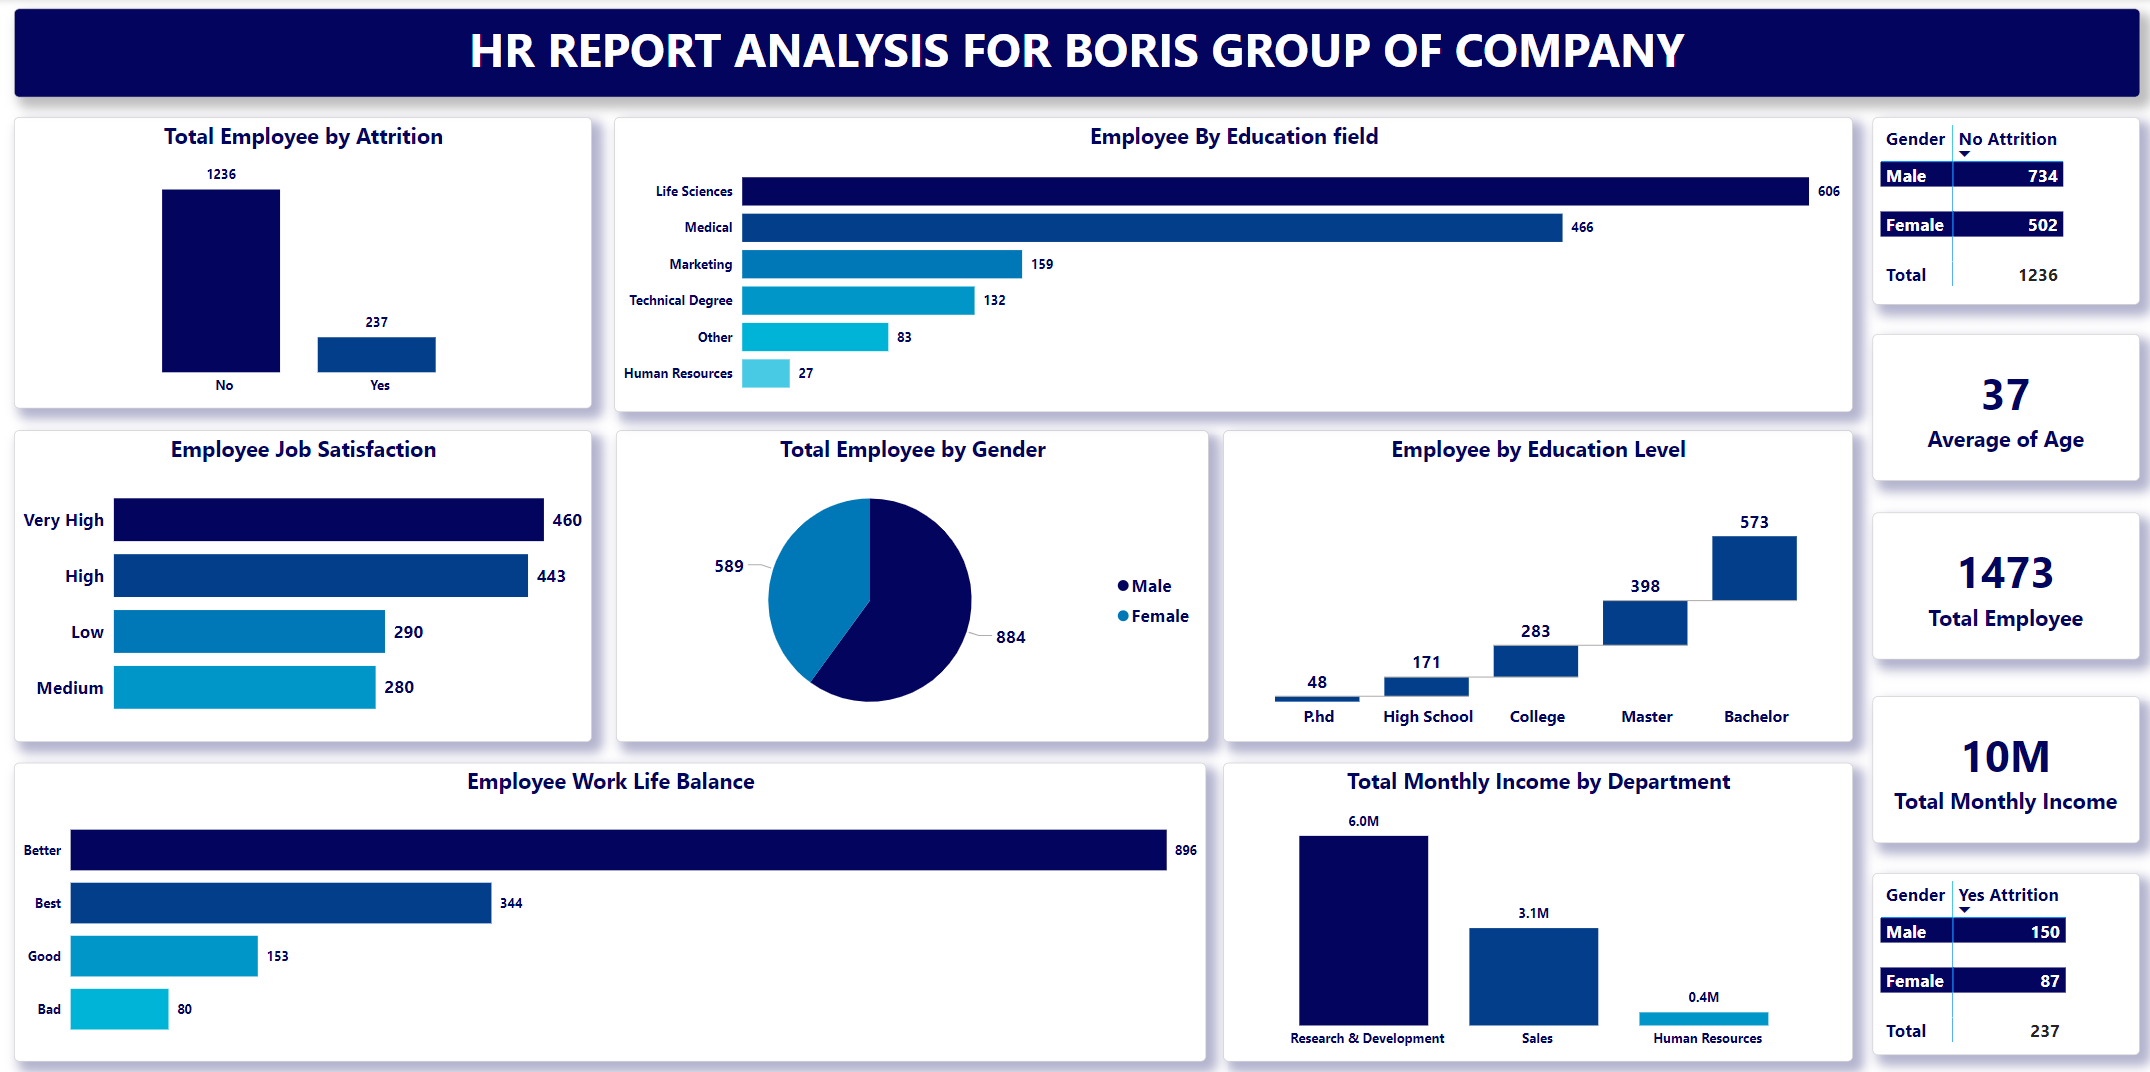

What the dashboard file says about the page in this screenshot:
{"tool":"powerbi","page":{"name":"Page 1","canvas":[2020,998],"ordinal":0},"visuals":[{"type":"pieChart","title":"Total Employee by Gender","fields":{"Category":["HR_Analytics.Gender"],"Y":["Sum(HR_Analytics.EmployeeCount)"]},"box":[589.6,400.5,548.3,288.8],"z":0},{"type":"clusteredBarChart","title":"Employee Job Satisfaction","fields":{"Category":["HR_Analytics.JobSatisfaction"],"Y":["Sum(HR_Analytics.EmployeeCount)"]},"box":[32.7,400.5,534.6,288.8],"z":1000},{"type":"waterfallChart","title":"Employee by Education Level","fields":{"Category":["HR_Analytics.Education Level"],"Y":["Sum(HR_Analytics.EmployeeCount)"]},"box":[1151.7,400.5,582.7,288.8],"z":2000},{"type":"clusteredBarChart","title":"Employee By Education field","fields":{"Category":["HR_Analytics.EducationField"],"Y":["Sum(HR_Analytics.EmployeeCount)"]},"box":[587.9,110,1146.5,273.3],"z":3000},{"type":"clusteredBarChart","title":"Employee  Work Life Balance","fields":{"Category":["HR_Analytics.WorkLifeBalance"],"Y":["Sum(HR_Analytics.EmployeeCount)"]},"box":[32.7,708.2,1103.6,276.7],"z":4000},{"type":"columnChart","title":"Total Employee by Attrition","fields":{"Category":["HR_Analytics.Attrition"],"Y":["Sum(HR_Analytics.EmployeeCount)"]},"box":[32.7,110,534.6,269.9],"z":5000},{"type":"columnChart","title":"Total Monthly Income by Department","fields":{"Category":["HR_Analytics.Department"],"Y":["Sum(HR_Analytics.MonthlyIncome)"]},"box":[1151.7,708.2,582.7,276.7],"z":6000},{"type":"textbox","box":[32.7,10.3,1968.2,82.5],"z":7000},{"type":"card","fields":{"Values":["Avg(HR_Analytics.Age)"]},"box":[1753.3,311.1,247.5,135.8],"z":8000},{"type":"card","fields":{"Values":["Sum(HR_Analytics.EmployeeCount)"]},"box":[1753.3,476.1,247.5,135.8],"z":9000},{"type":"card","fields":{"Values":["Sum(HR_Analytics.MonthlyIncome)"]},"box":[1753.3,646.3,247.5,135.8],"z":10000},{"type":"pivotTable","fields":{"Rows":["HR_Analytics.Gender"],"Values":["Count(HR_Analytics)"]},"box":[1753.3,809.6,247.5,168.5],"z":11000},{"type":"pivotTable","fields":{"Rows":["HR_Analytics.Gender"],"Values":["Count(HR_Analytics)"]},"box":[1753.3,110,247.5,173.6],"z":12000}]}

Visuals, with their boxes in screenshot pixels (x1, y1, x2, y2), scaled from the page's 2020x998 canvas onto the 2150x1072 screenshot:
"Total Employee by Gender" pieChart: left=628, top=430, right=1211, bottom=740
"Employee Job Satisfaction" clusteredBarChart: left=35, top=430, right=604, bottom=740
"Employee by Education Level" waterfallChart: left=1226, top=430, right=1846, bottom=740
"Employee By Education field" clusteredBarChart: left=626, top=118, right=1846, bottom=412
"Employee  Work Life Balance" clusteredBarChart: left=35, top=761, right=1209, bottom=1058
"Total Employee by Attrition" columnChart: left=35, top=118, right=604, bottom=408
"Total Monthly Income by Department" columnChart: left=1226, top=761, right=1846, bottom=1058
textbox: left=35, top=11, right=2130, bottom=100
card - Avg(HR_Analytics.Age): left=1866, top=334, right=2130, bottom=480
card - Sum(HR_Analytics.EmployeeCount): left=1866, top=511, right=2130, bottom=657
card - Sum(HR_Analytics.MonthlyIncome): left=1866, top=694, right=2130, bottom=840
pivotTable - HR_Analytics.Gender x Count(HR_Analytics): left=1866, top=870, right=2130, bottom=1051
pivotTable - HR_Analytics.Gender x Count(HR_Analytics): left=1866, top=118, right=2130, bottom=305
